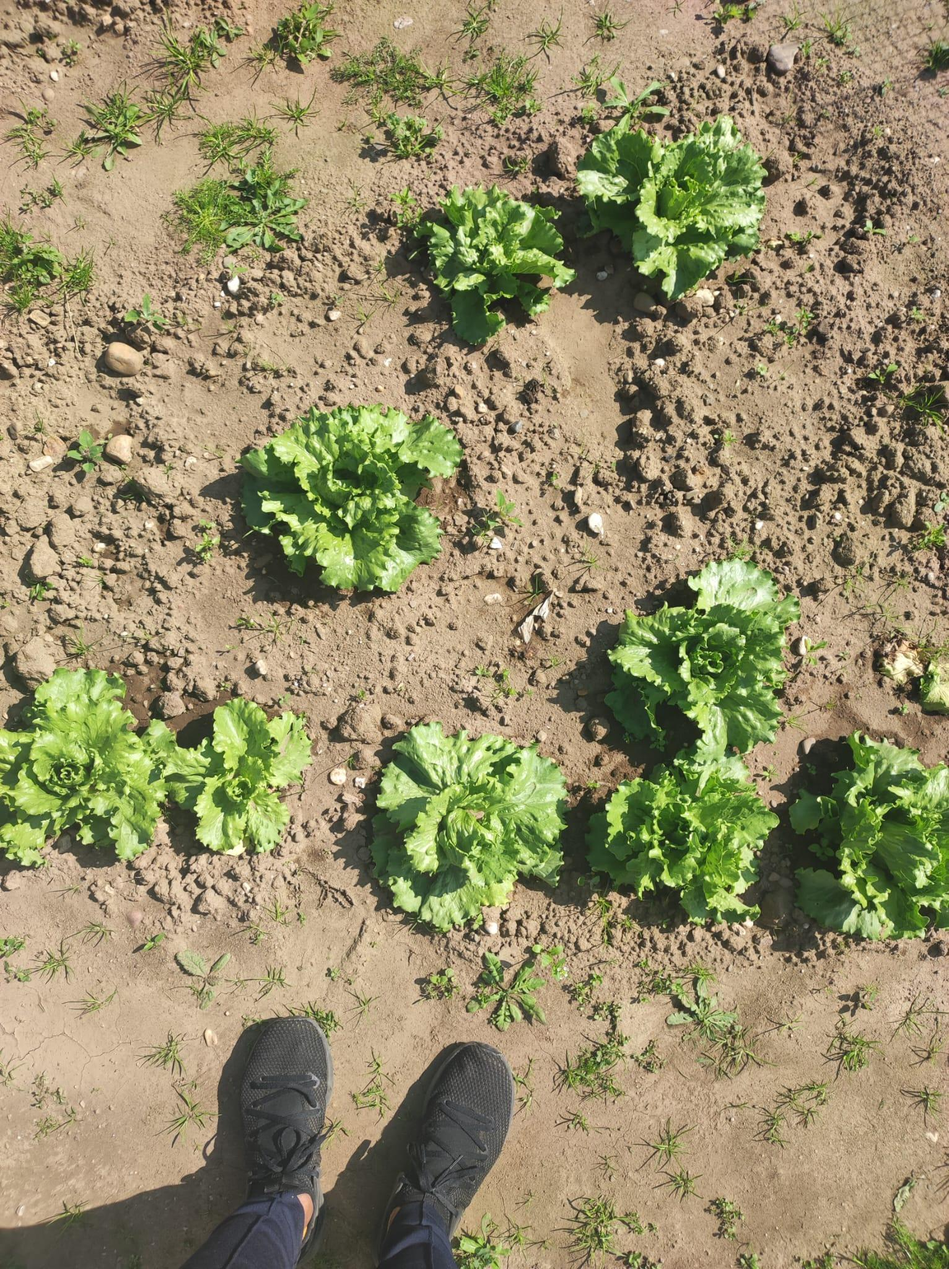Healthy: (240, 405, 461, 591), (371, 724, 566, 932), (606, 559, 801, 753), (587, 741, 779, 925), (577, 115, 766, 298), (0, 669, 173, 867), (791, 734, 949, 941), (414, 185, 576, 344), (164, 699, 310, 854)
